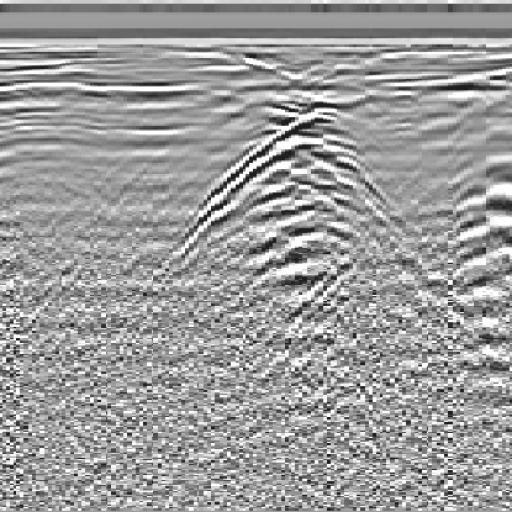metalic: (167, 69, 425, 312)
